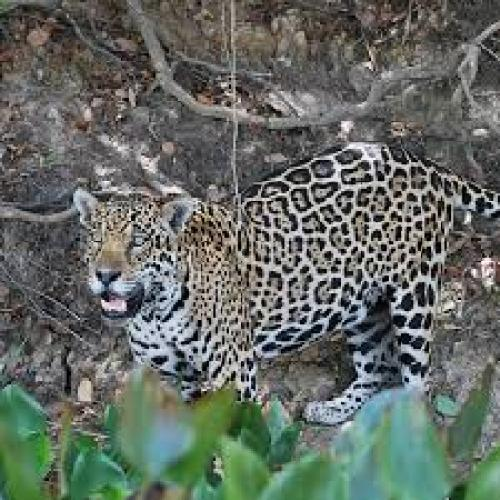jaguar_not-endangered: (78, 154, 452, 403), (463, 429, 464, 430)
